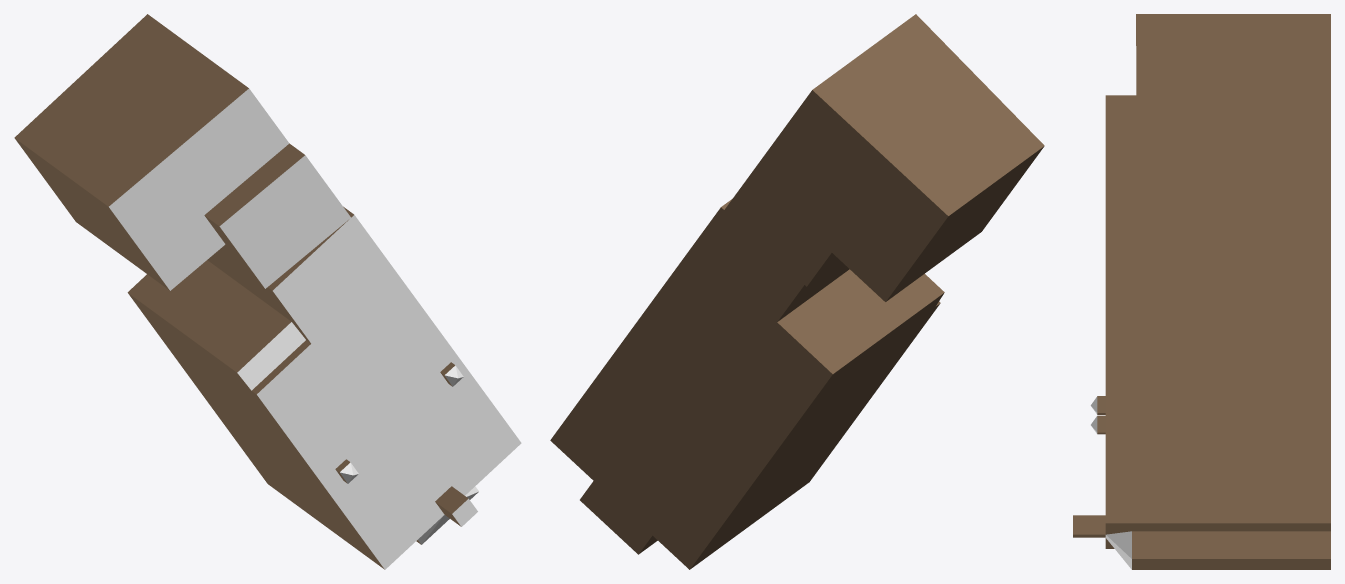
The picture shows the model from 3 angles, left to right: view 1: azimuth 30°, elevation 25°; view 2: azimuth 150°, elevation 25°; view 3: azimuth 270°, elevation 25°; orthographic projection. The views are drawn at different scales.
Parts seen in each view (by area): view 1: City_PC-08749; view 2: City_PC-08749; view 3: City_PC-08749.
Part boxes in pixels (x1,y1,x2,y2): City_PC-08749: (14, 14, 521, 569); City_PC-08749: (550, 14, 1044, 569); City_PC-08749: (1073, 14, 1330, 569).
Bounding box in the file's own units: 2018 × 2469 × 1205.
